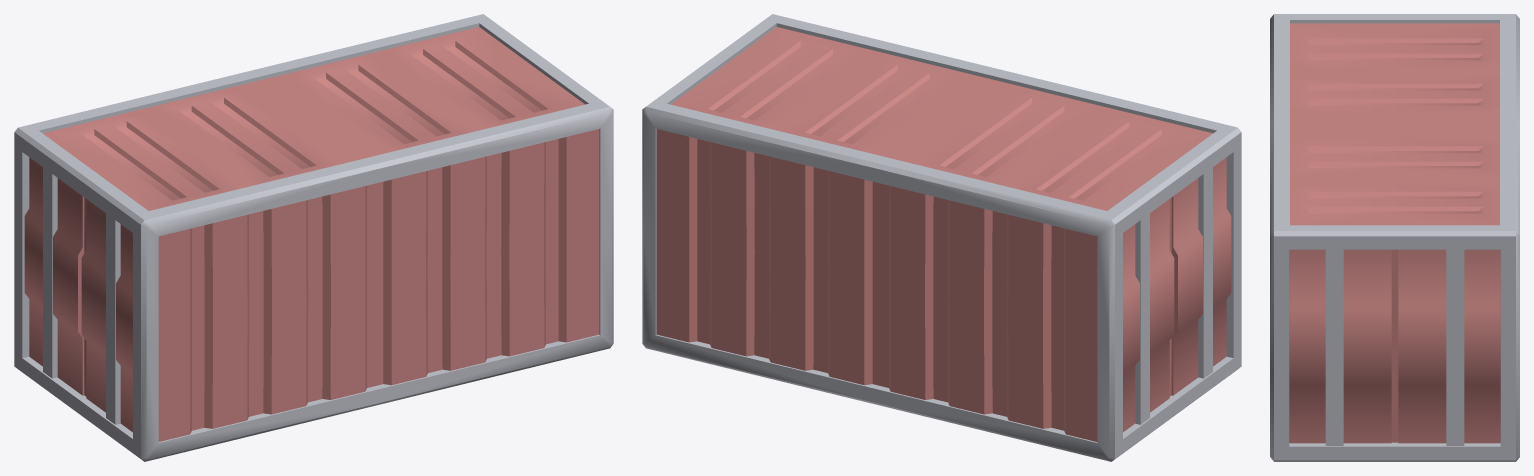
The model's file is Container_Long.fbx.
3 renders of one model, left to right at view 1: azimuth 30°, elevation 25°; view 2: azimuth 150°, elevation 25°; view 3: azimuth 270°, elevation 25°, orthographic. The views are drawn at different scales.
Parts seen in each view (by area): view 1: Container_Long.001; view 2: Container_Long.001; view 3: Container_Long.001.
Part boxes in pixels (x1,y1,x2,y2): Container_Long.001: (14, 14, 613, 461); Container_Long.001: (642, 14, 1241, 461); Container_Long.001: (1270, 14, 1519, 461).
Size of the model in its own units: 4.36 by 2.13 by 2.09.
